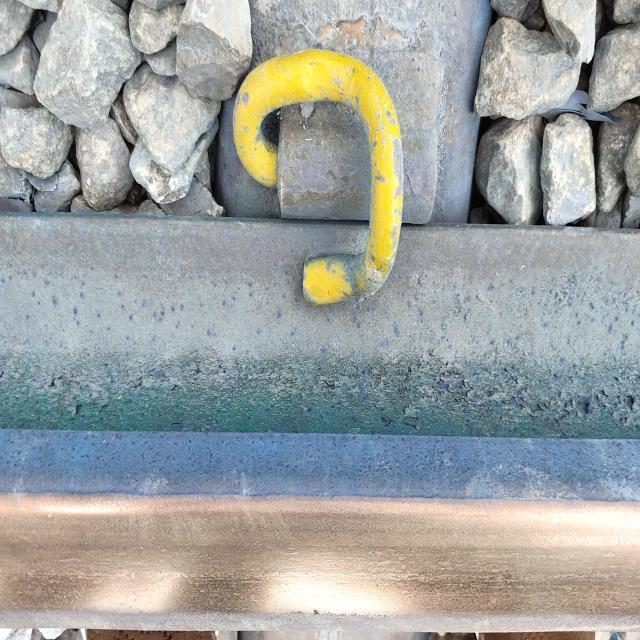Good Fasteners: (216, 0, 491, 304)
